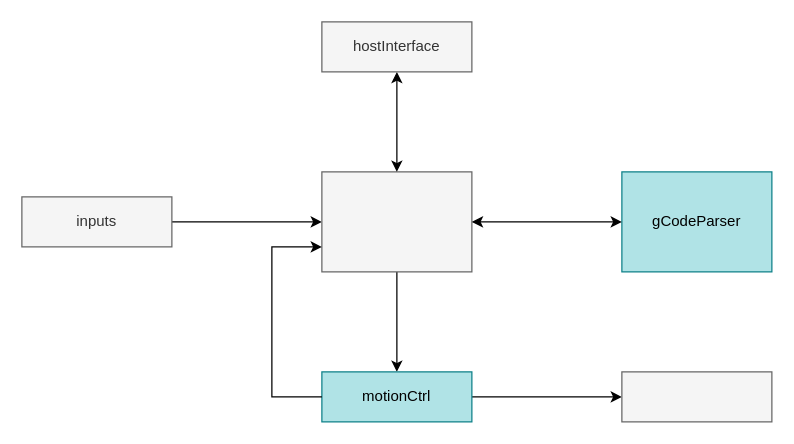
Image size: 794x444. Some labels were removed from this diagram. The shapes that lost their labels are listed below. From the top down, each one's centre as x and y in pixels, then its label:
point (396, 221): mainCtrl
point (696, 396): outputs
